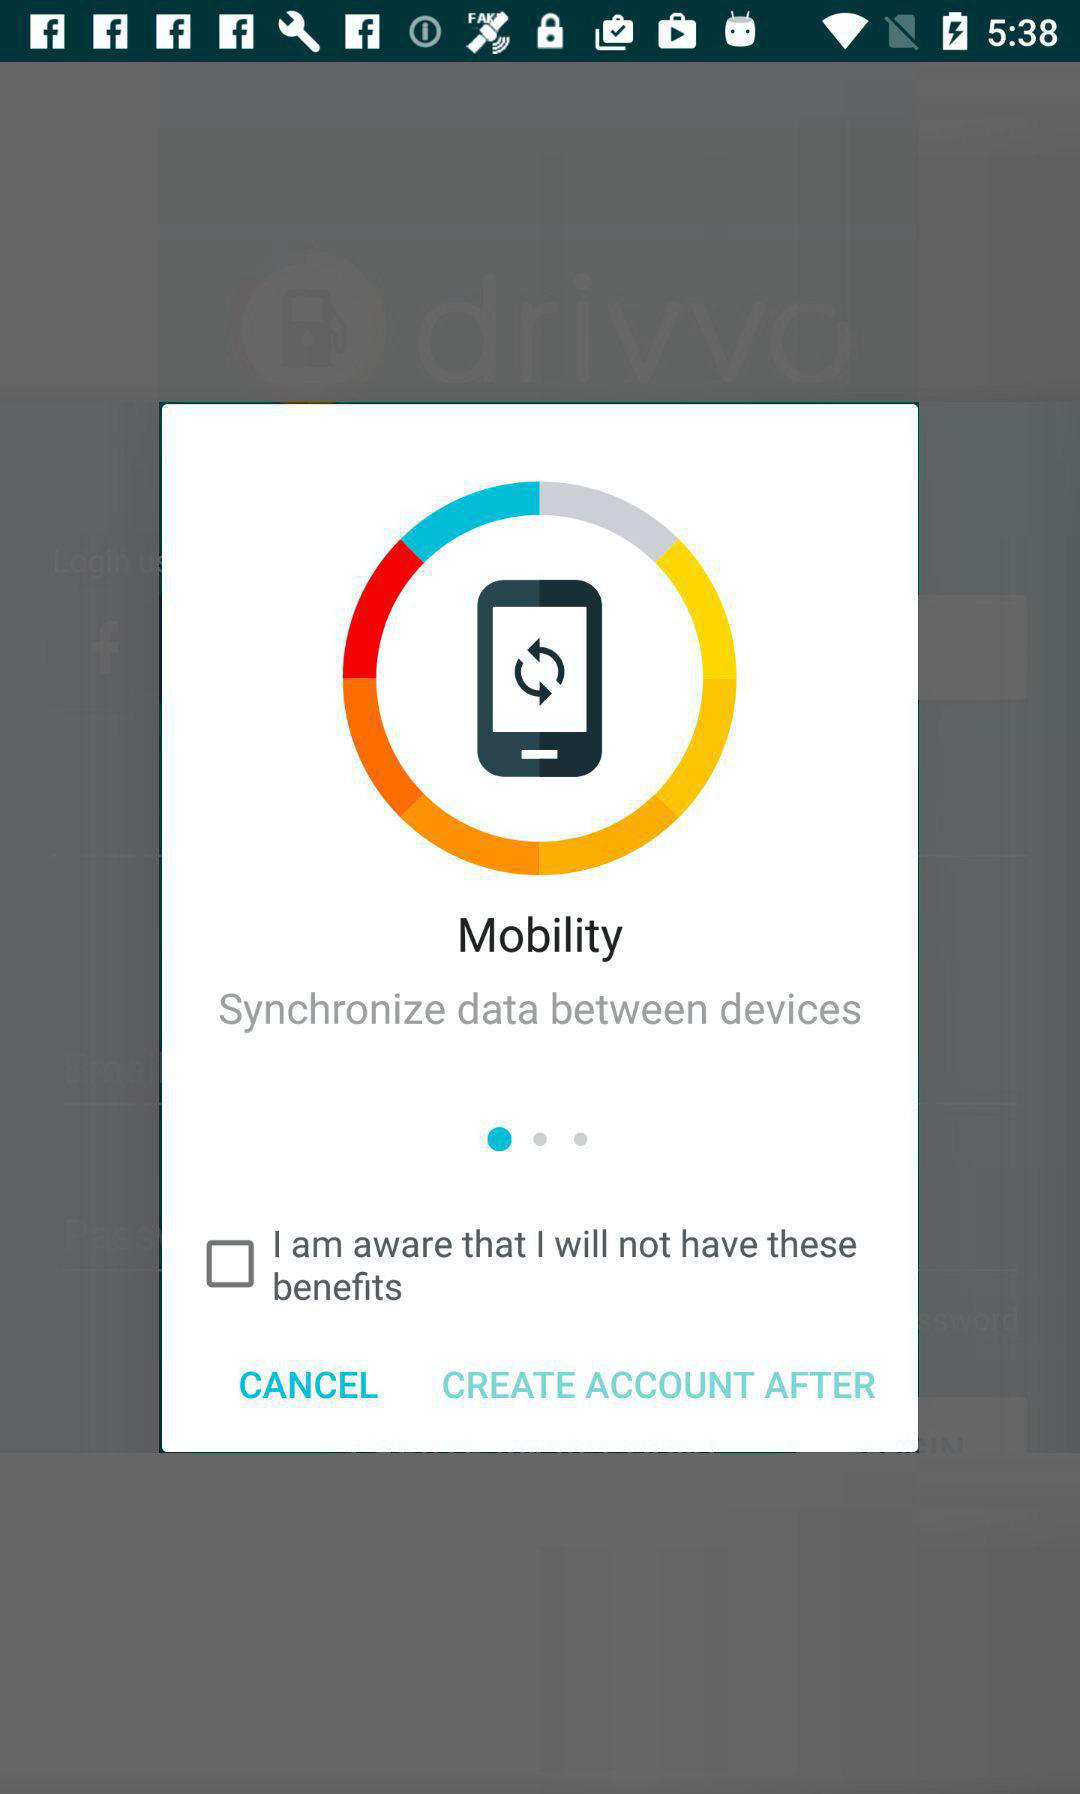CheckedTextView: (206, 1228, 858, 1303)
Image: (345, 482, 737, 875)
Modal: (163, 405, 919, 1453)
PageIndicator: (487, 1126, 587, 1152)
Text: (275, 1229, 857, 1302), (220, 992, 861, 1033), (445, 1371, 875, 1399), (460, 914, 624, 962), (241, 1371, 379, 1399)
UpperTaskBar: (1, 1, 1080, 64)
